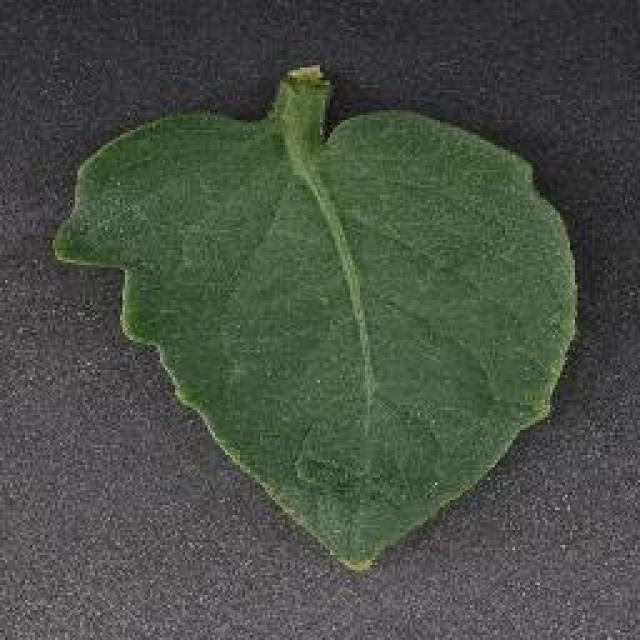Tomato___healthy: (53, 66, 581, 574)
